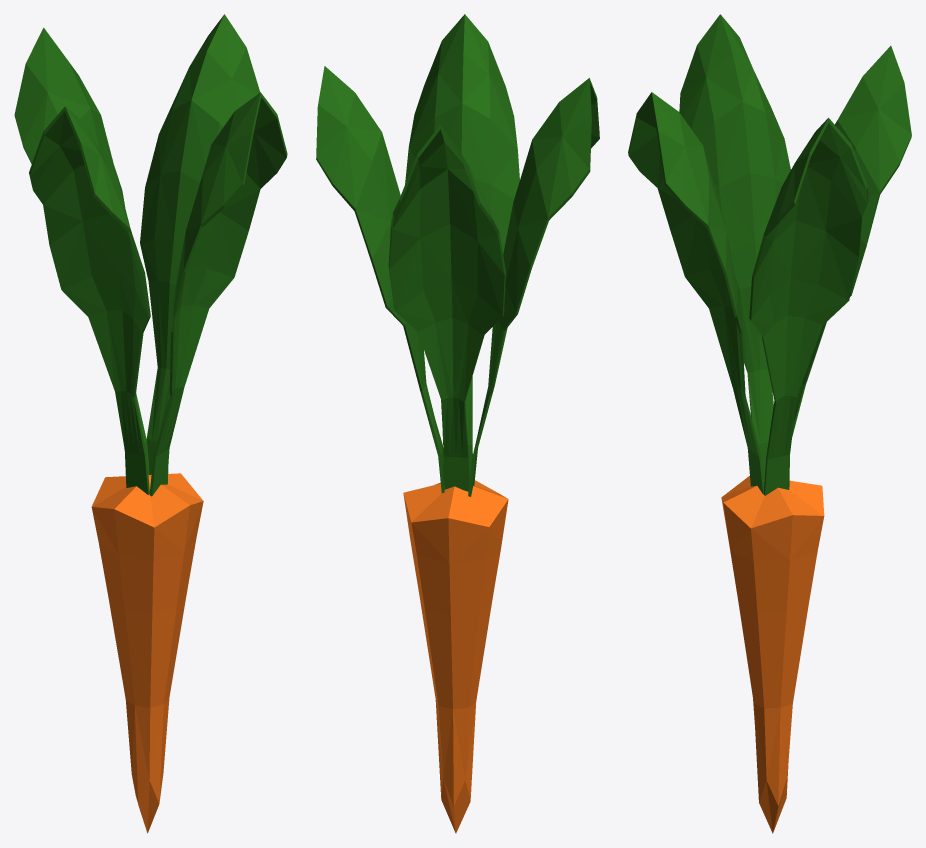
The model's file is Carrot.obj.
The picture shows the model from 3 angles, left to right: view 1: azimuth 30°, elevation 25°; view 2: azimuth 150°, elevation 25°; view 3: azimuth 270°, elevation 25°; orthographic projection.
Visible parts, largest first — view 1: Carrot_DarkGreen, Carrot_Orange; view 2: Carrot_DarkGreen, Carrot_Orange; view 3: Carrot_DarkGreen, Carrot_Orange.
Part boxes in pixels (x1=…): Carrot_DarkGreen: x1=14, y1=14, x2=287, y2=496; Carrot_Orange: x1=91, y1=473, x2=203, y2=833; Carrot_DarkGreen: x1=316, y1=14, x2=599, y2=496; Carrot_Orange: x1=403, y1=480, x2=508, y2=833; Carrot_DarkGreen: x1=628, y1=14, x2=911, y2=495; Carrot_Orange: x1=721, y1=475, x2=824, y2=833.
Size of the model in its own units: 0.9467 by 2.78 by 0.9316.
